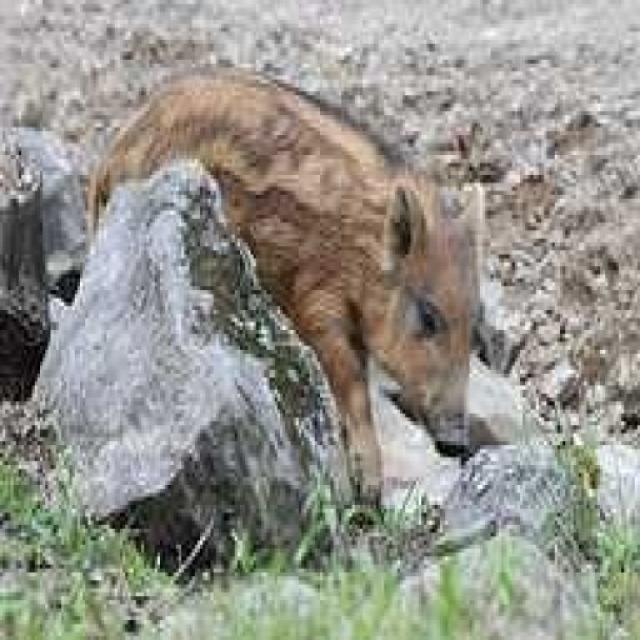pig: (122, 62, 536, 472)
